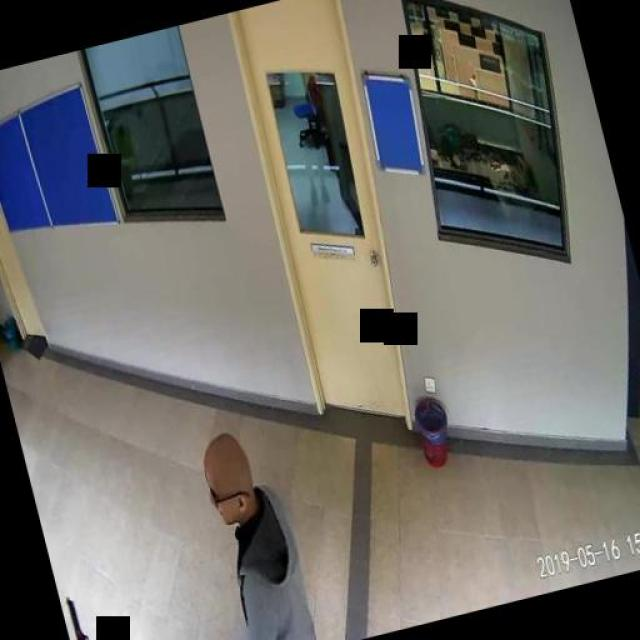gun: (64, 589, 108, 640)
